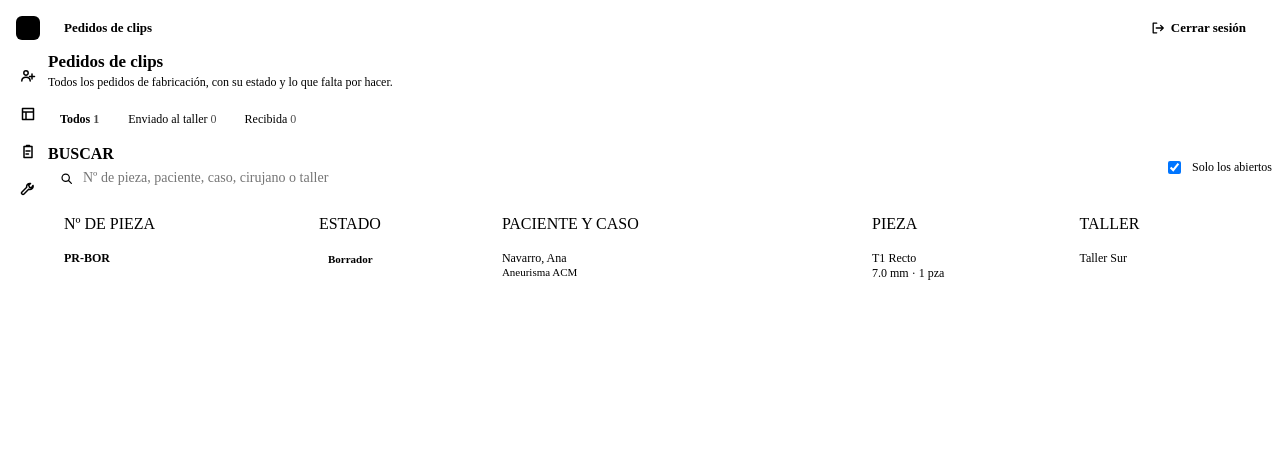
Test case: firmar y rechazar › un residente ve «Firmar» apagado con el motivo
Click the text "PR-BOR" at (87, 258), box [64,241,319,291]
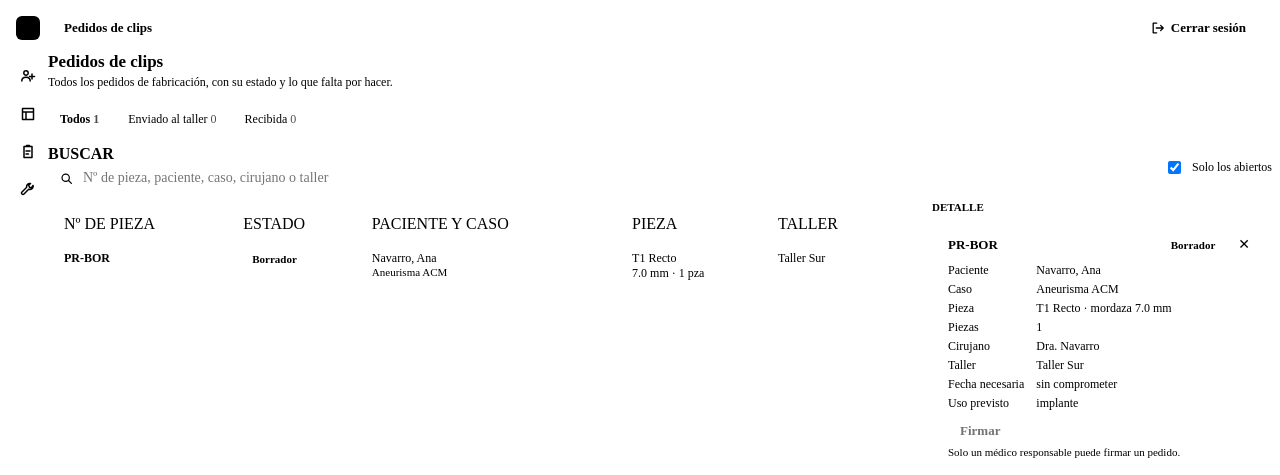
Now the button "Firmar" is disabled, box [948,423,1012,439]
Now the text "Solo un médico responsable puede firmar un pedido." is shown, box [948,446,1180,458]
